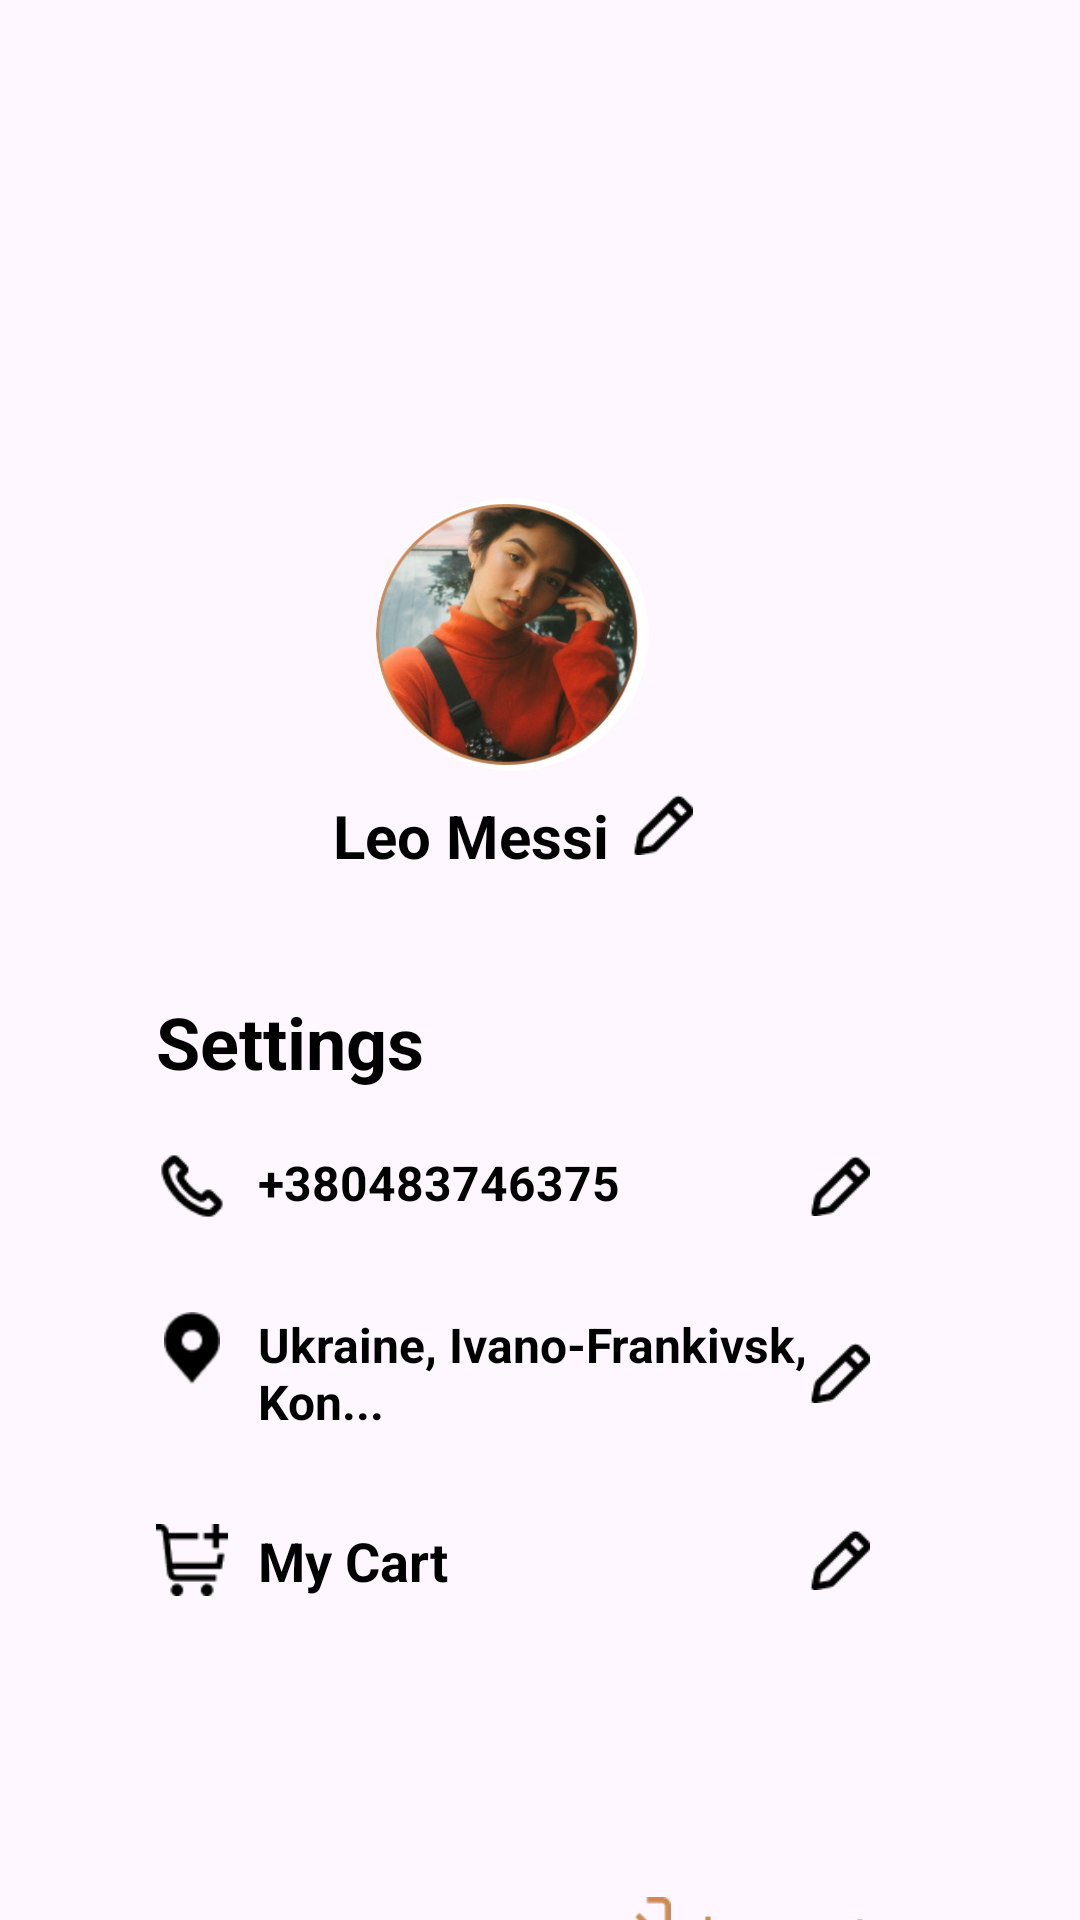

Where icons sit on this 1080×1920 app screen, as [x1=x1, y1=y1, x2=x2, y2=y2]:
Edit Address: [x1=811, y1=1343, x2=870, y2=1403]
Edit Cart: [x1=811, y1=1530, x2=870, y2=1590]
Edit Name: [x1=634, y1=795, x2=693, y2=855]
Edit Phone: [x1=811, y1=1156, x2=870, y2=1216]
Location: [x1=164, y1=1312, x2=220, y2=1384]
Phone: [x1=161, y1=1155, x2=223, y2=1217]
Profile Picture: [x1=376, y1=504, x2=638, y2=765]
